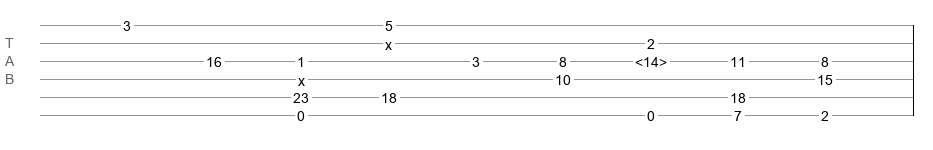0: (297, 108, 305, 118), (647, 108, 655, 118)
1: (297, 54, 305, 64)
10: (555, 72, 571, 82)
11: (730, 54, 746, 64)
15: (817, 72, 833, 82)
16: (206, 54, 222, 64)
18: (381, 90, 397, 100), (730, 90, 746, 100)
2: (647, 36, 655, 46), (821, 108, 829, 118)
23: (293, 90, 309, 100)
3: (123, 18, 131, 28), (472, 54, 480, 64)
5: (385, 18, 393, 28)
7: (734, 108, 742, 118)
8: (559, 54, 567, 64), (821, 54, 829, 64)
harmonic: (635, 54, 667, 64)
x: (298, 73, 305, 81), (385, 37, 392, 45)
